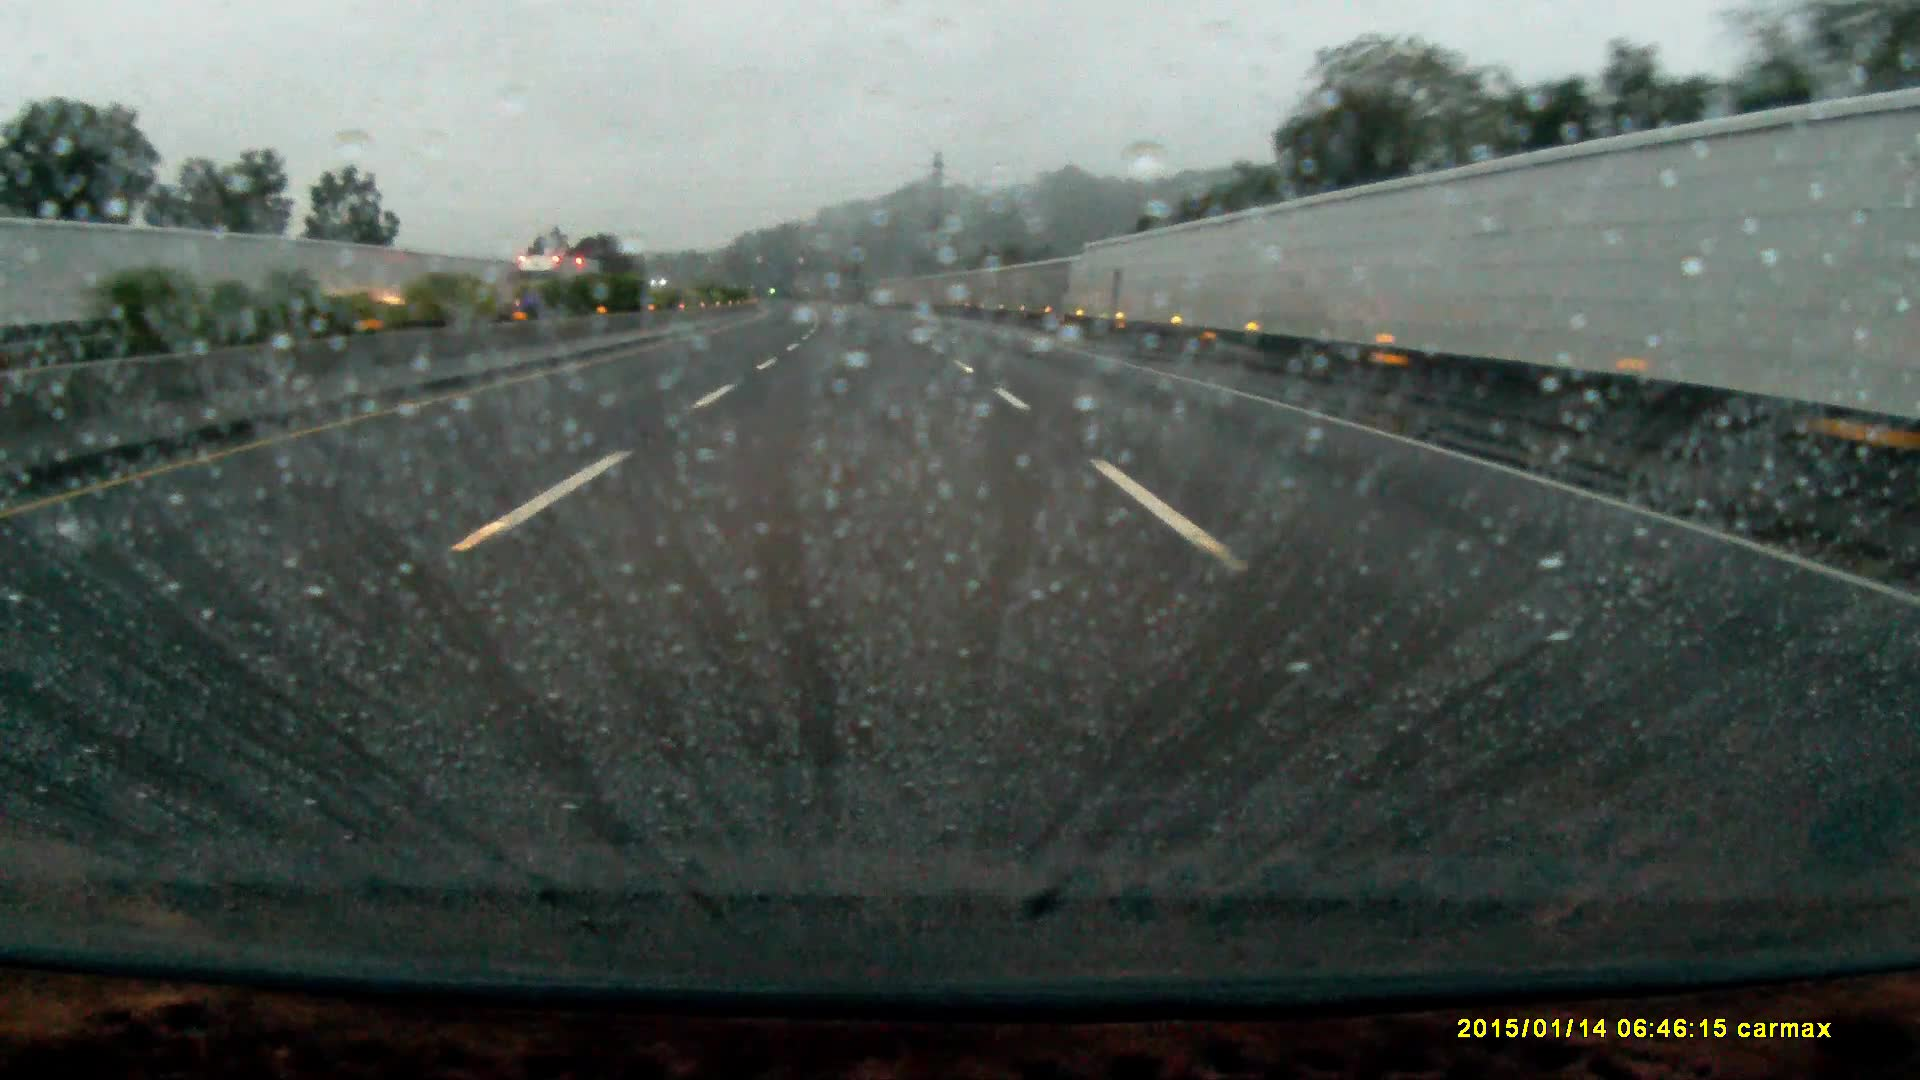vehicle: (509, 253, 600, 313)
